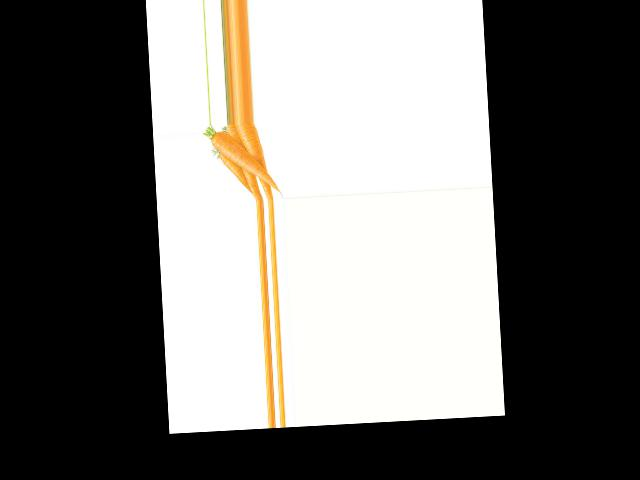carrot: (236, 121, 263, 183)
